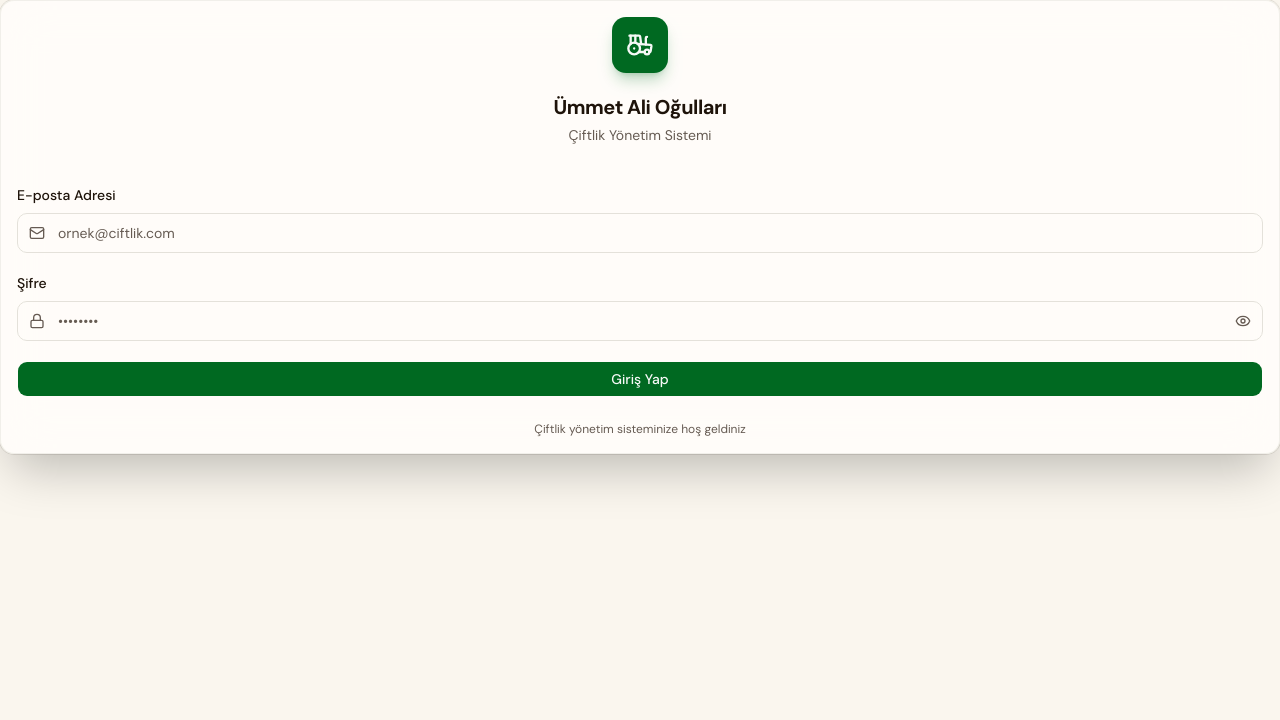
Test: Login Page › shows validation error for short password
Type "test@test.com" into the field with placeholder "ornek@ciftlik.com".
click(640, 233); type("test@test.com")  # box [17,213,1263,253]
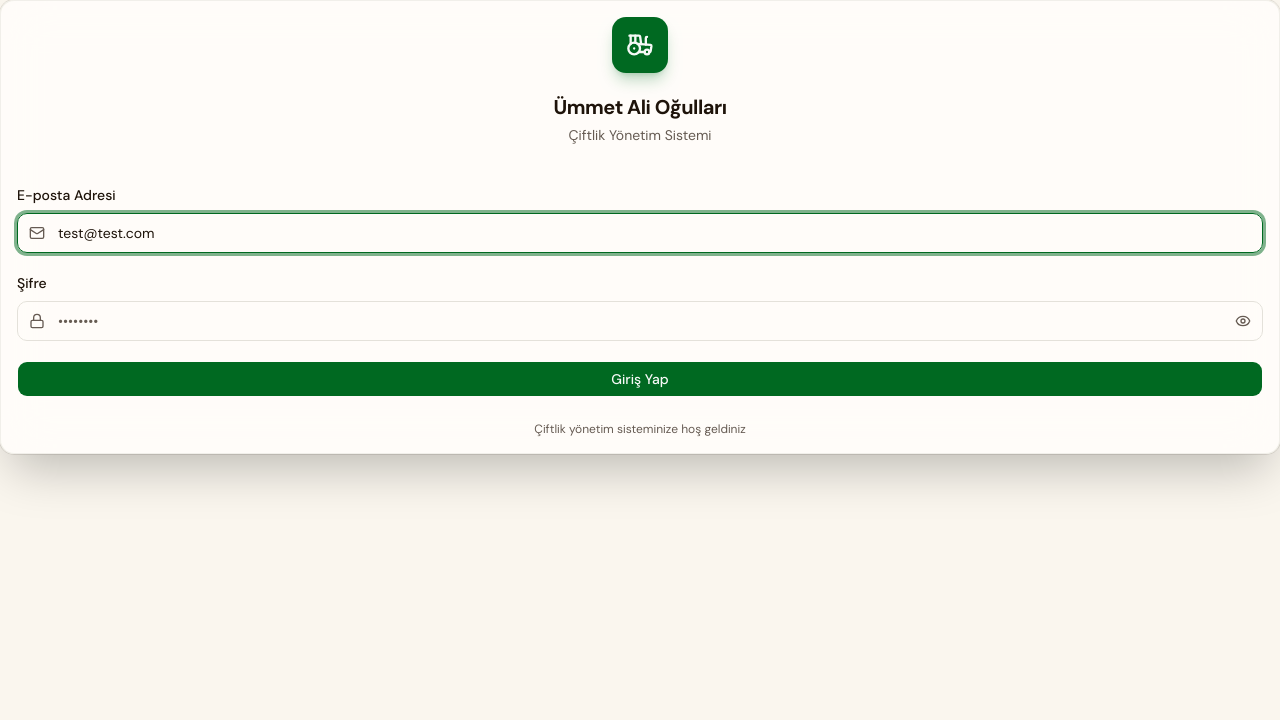
Type "123" into the password field with placeholder "••••••••".
click(640, 321); type("123")  # box [17,301,1263,341]
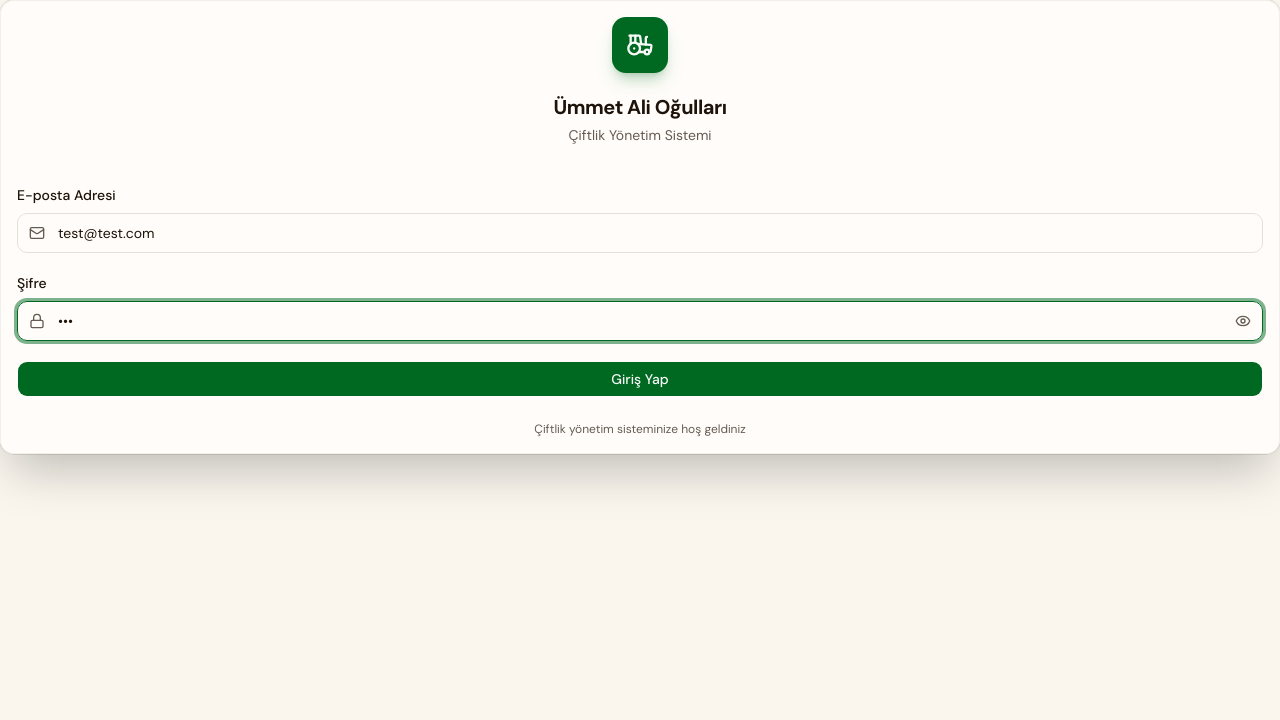
Click the button "Giriş Yap".
click(640, 379)  # box [17,361,1263,397]
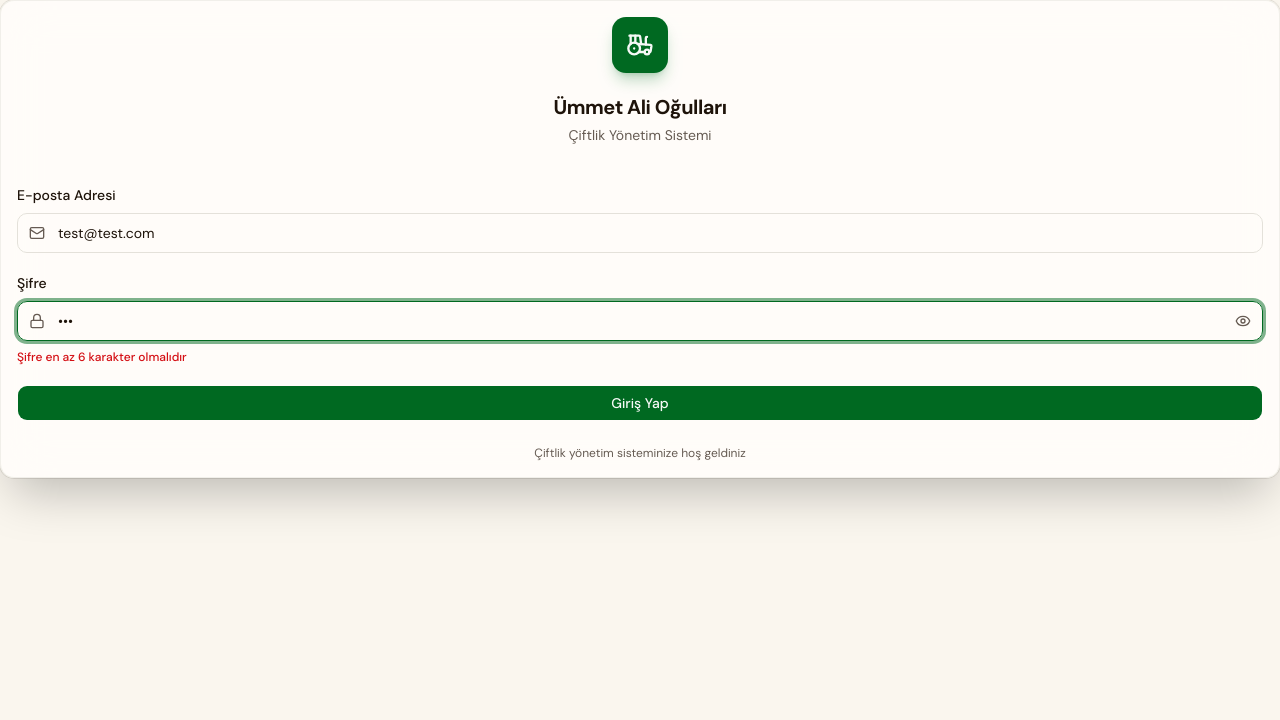
expect the text "Şifre en az 6 karakter olmalıdır" is shown: met, box [17,349,187,365]
